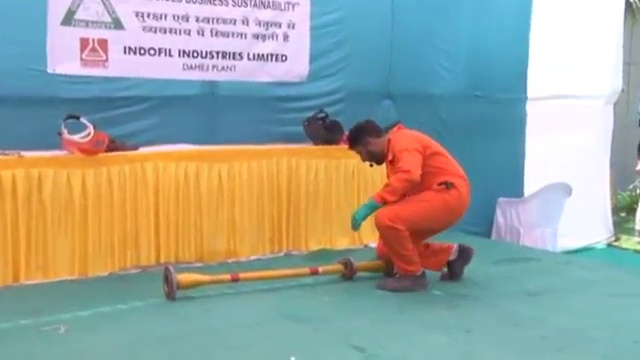helmet_off: (344, 117, 389, 169)
person: (340, 113, 475, 292)
